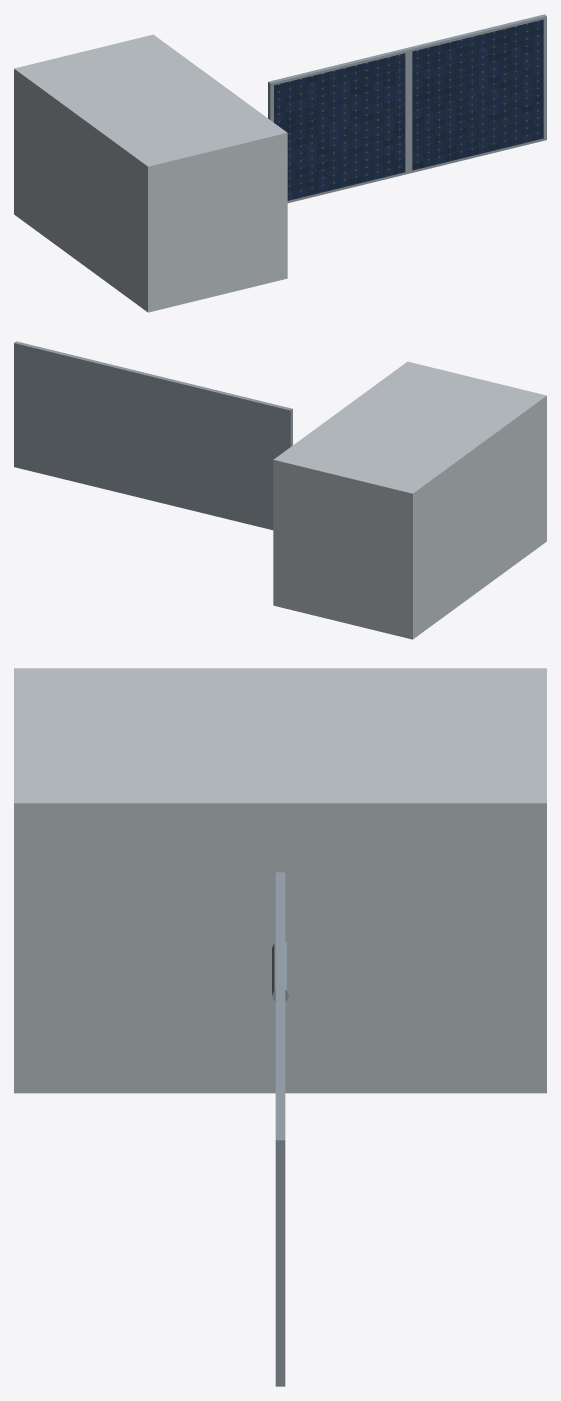
File: ref-hbt-l3h-58960.glb
The picture shows the model from 3 angles, top to bottom: view 1: azimuth 30°, elevation 25°; view 2: azimuth 150°, elevation 25°; view 3: azimuth 270°, elevation 25°; orthographic projection. The views are drawn at different scales.
Visible parts, largest first — view 1: Spacecraft body, Photovoltaic laminates (×2), Array frame (×2); view 2: Spacecraft body, Array frame (×2); view 3: Spacecraft body, Array frame (×2).
Boxes of the visible parts, bbox=[...] form: Spacecraft body: bbox=[14, 34, 287, 312]; Photovoltaic laminates (×2): bbox=[274, 19, 543, 200]; Array frame (×2): bbox=[268, 14, 546, 203]; Spacecraft body: bbox=[273, 361, 546, 639]; Array frame (×2): bbox=[14, 341, 292, 530]; Spacecraft body: bbox=[14, 668, 546, 1093]; Array frame (×2): bbox=[275, 872, 285, 1386].
Size of the model in its own units: 2 by 0.6 by 1.
Materials: 3 (1 with a texture image).
